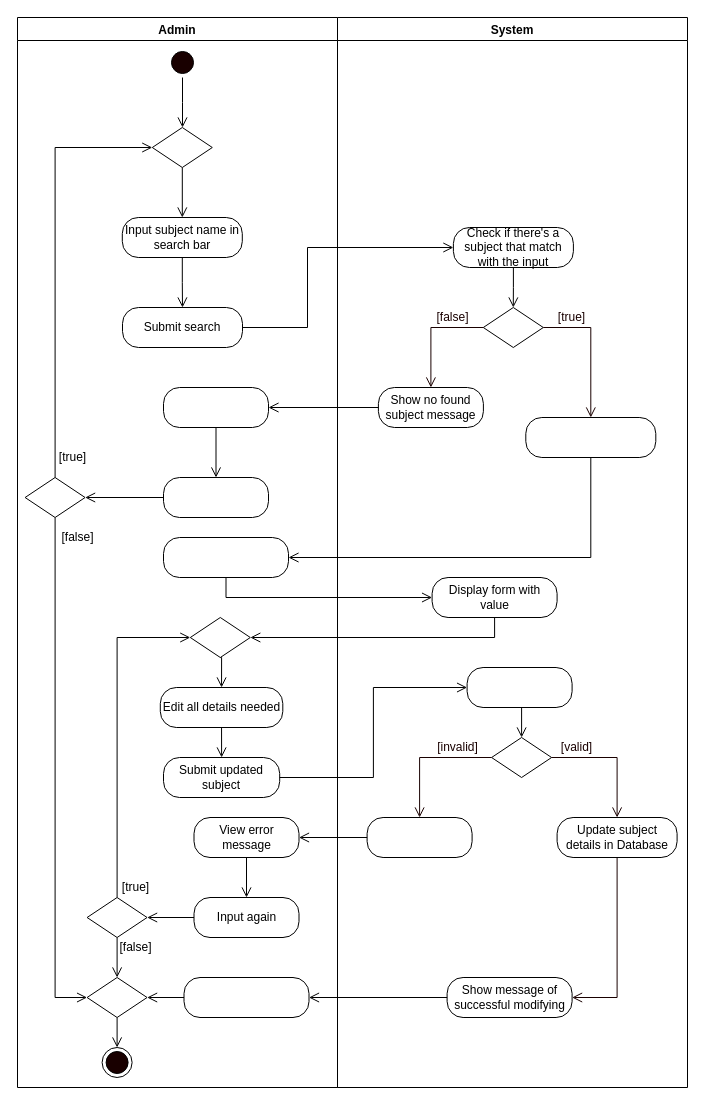
The diagram is 705 pixels wide and 1105 high, and some of its shapes have lost their labels. Here are the shapes that lost their labels. From the top down, the centre of each, then its label:
At point 215,407: "View no found subject message".
At point 590,437: "Display subject/s that match with the input".
At point 215,497: "Search again".
At point 225,557: "Choose edit button of the selected subject".
At point 519,687: "Validate updated subject".
At point 419,837: "Show error message".
At point 246,997: "View message".
